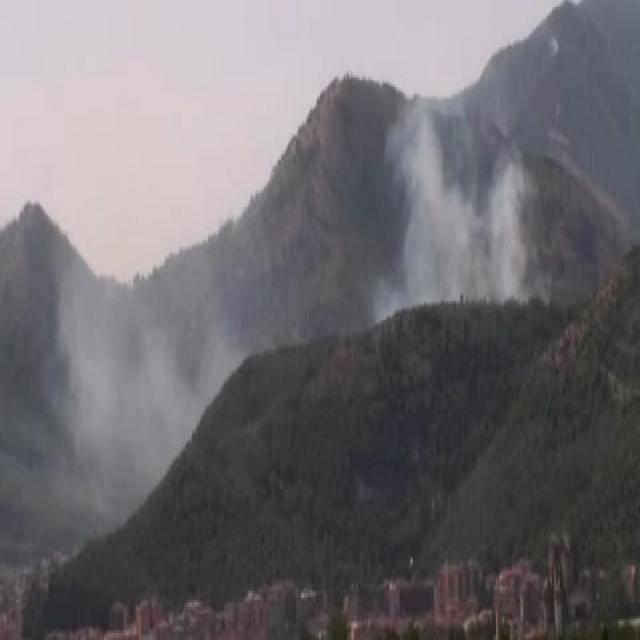smoke: (382, 100, 528, 312), (67, 274, 200, 452)
